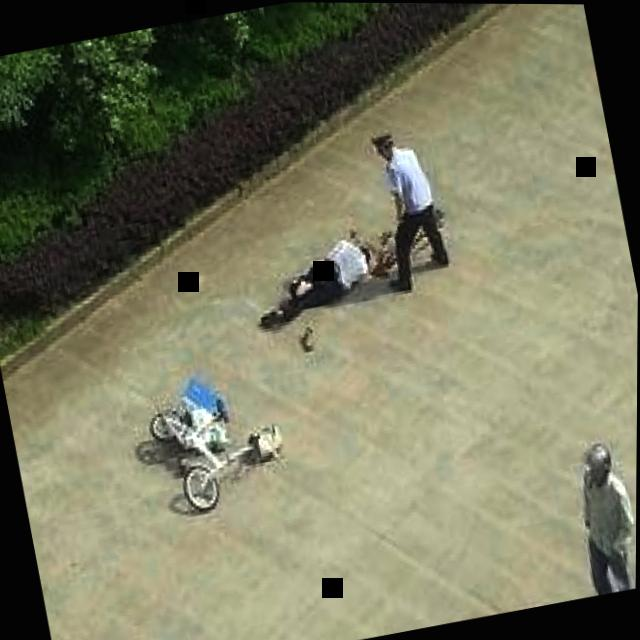Fall-Detected: (240, 188, 421, 339)
